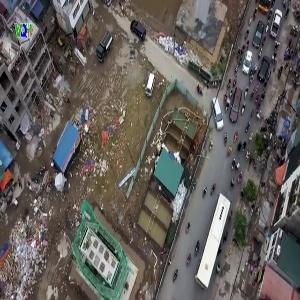drone: (116, 35, 152, 71)
